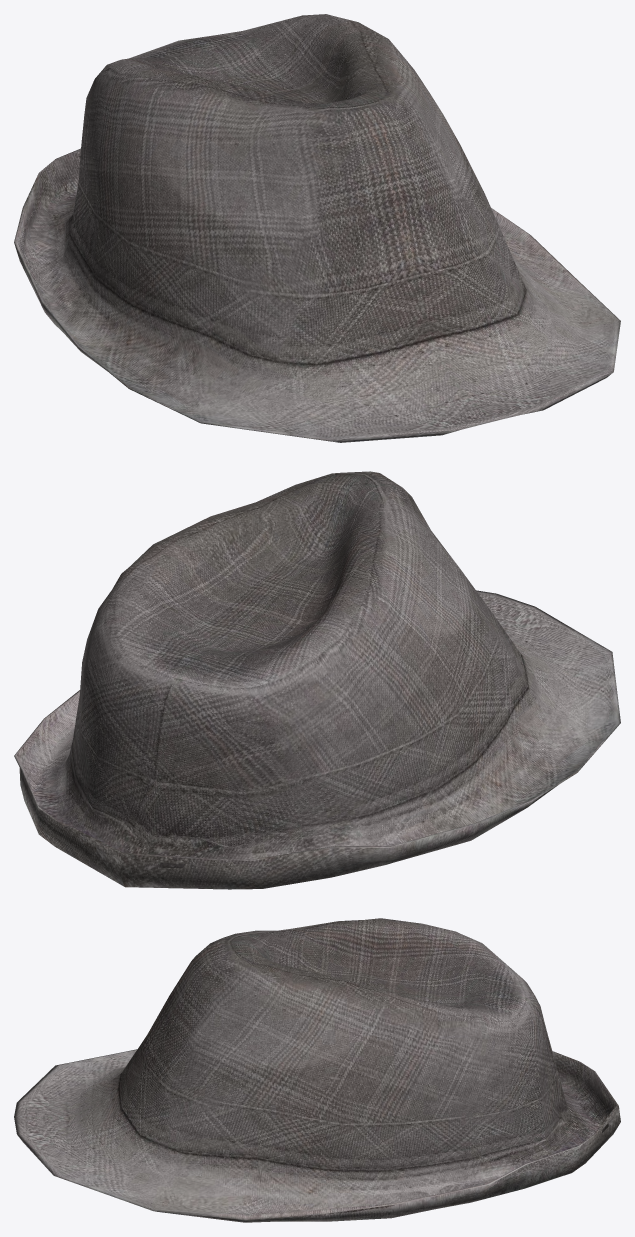
File: Fedora.fbx
3 renders of one model, top to bottom at view 1: azimuth 30°, elevation 25°; view 2: azimuth 150°, elevation 25°; view 3: azimuth 270°, elevation 25°, orthographic. The views are drawn at different scales.
Visible parts, largest first — view 1: Fedora; view 2: Fedora; view 3: Fedora.
Boxes of the visible parts, x1,y1,x2,y2 form: Fedora: (14, 14, 620, 442); Fedora: (14, 471, 620, 889); Fedora: (14, 918, 620, 1222).
Size of the model in its own units: 0.1894 by 0.0989 by 0.2729.
